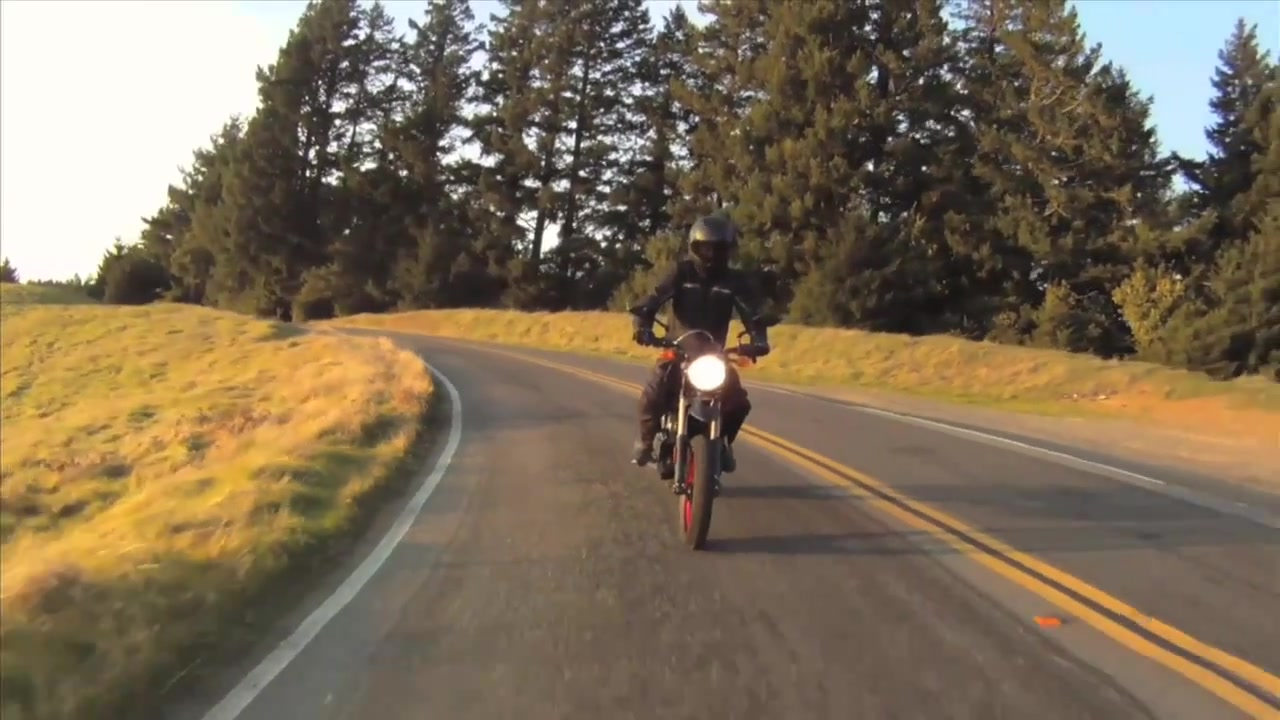motorbike: (634, 297, 791, 560)
